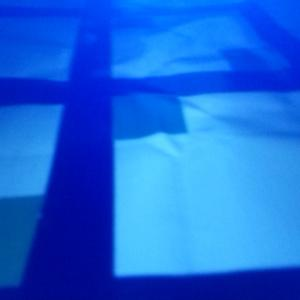bottom_right: (68, 77, 187, 139)
top_left: (1, 197, 113, 300), (221, 46, 300, 91)
